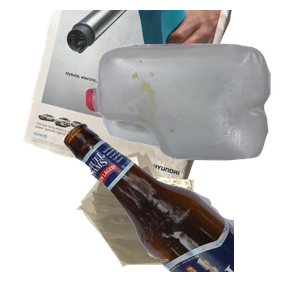glass: (60, 120, 300, 300)
paper: (20, 10, 244, 190)
plastic: (83, 41, 300, 194)
trash: (74, 148, 273, 300)
